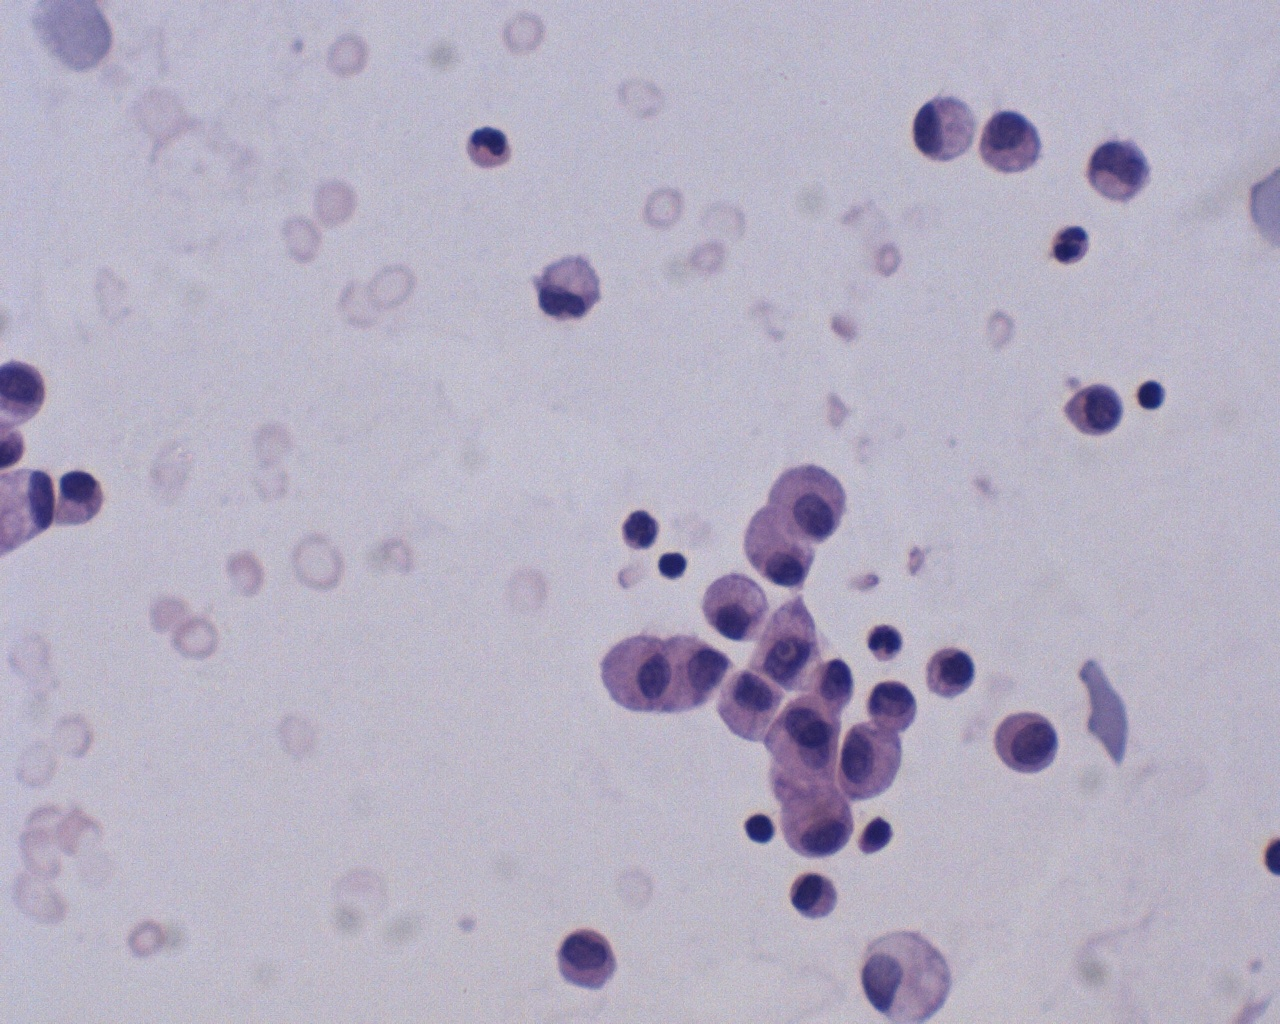ab: (544, 922, 625, 996), (1056, 380, 1128, 441), (866, 675, 924, 739)
histo: (848, 920, 969, 1024), (903, 91, 983, 167)
lymph: (740, 809, 776, 848), (1134, 377, 1168, 416)
meso: (758, 453, 859, 545), (590, 619, 678, 721), (777, 775, 859, 866), (696, 567, 776, 647), (995, 703, 1067, 782), (976, 106, 1048, 181)
neutro: (1048, 219, 1094, 272)
